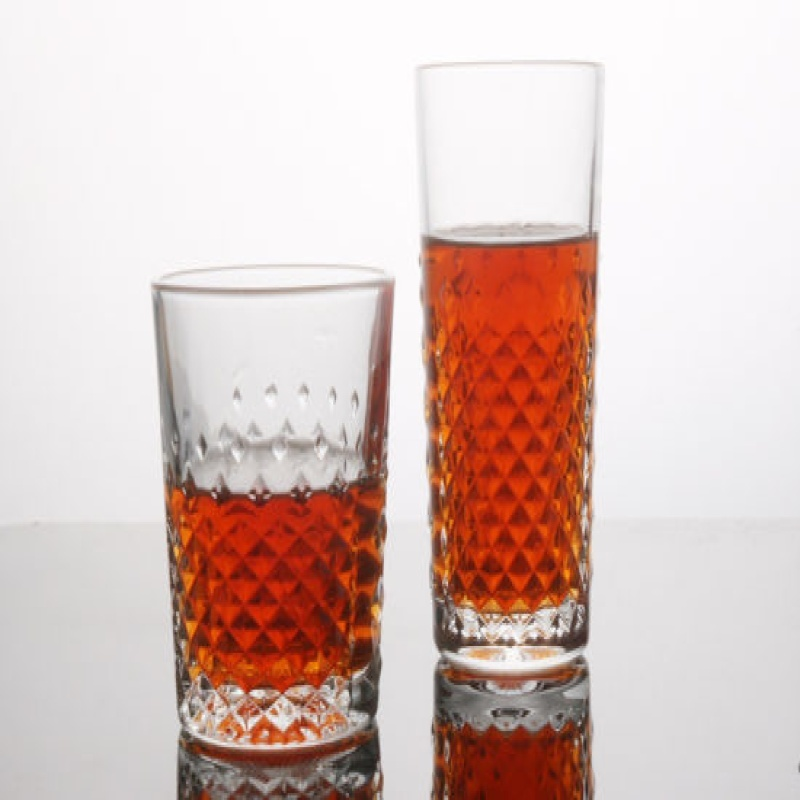whiskey: (410, 55, 608, 728), (150, 254, 400, 753)
